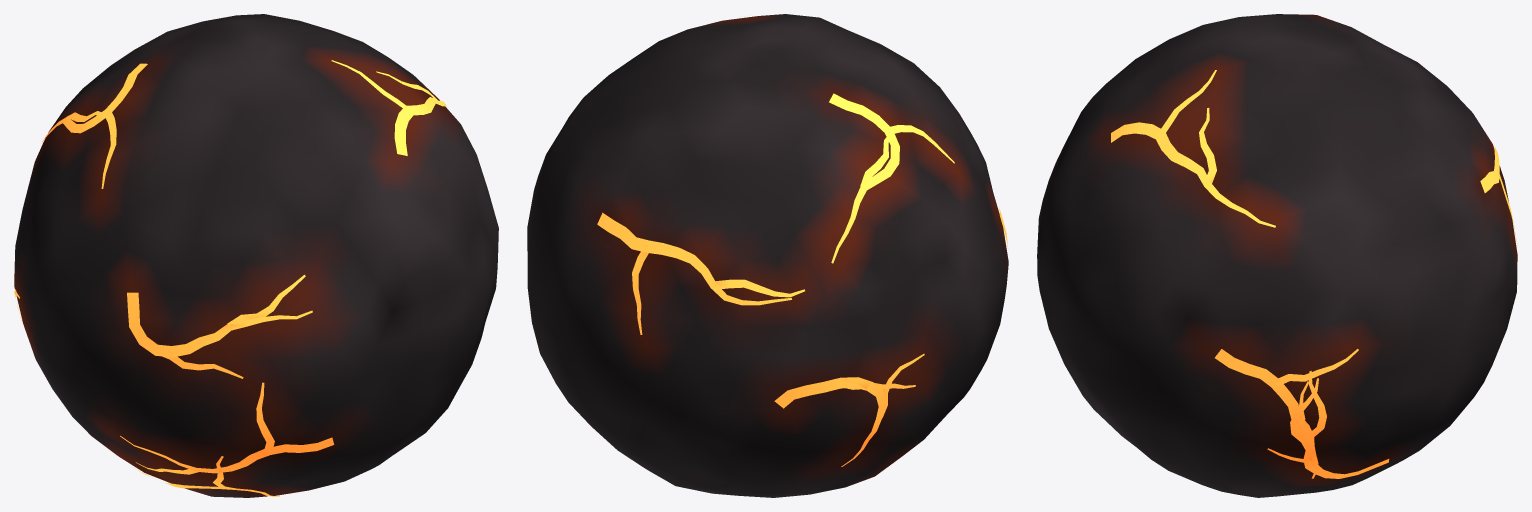
The model's file is boulder_volcano.glb.
The picture shows the model from 3 angles, left to right: view 1: azimuth 30°, elevation 25°; view 2: azimuth 150°, elevation 25°; view 3: azimuth 270°, elevation 25°; orthographic projection.
Visible parts, largest first — view 1: shell; view 2: shell; view 3: shell.
Part boxes in pixels (x1,y1,x2,y2): shell: (14,14,498,497); shell: (527,14,1008,497); shell: (1037,14,1517,497).
Bounding box in the file's own units: 1.8 × 1.79 × 1.8.
